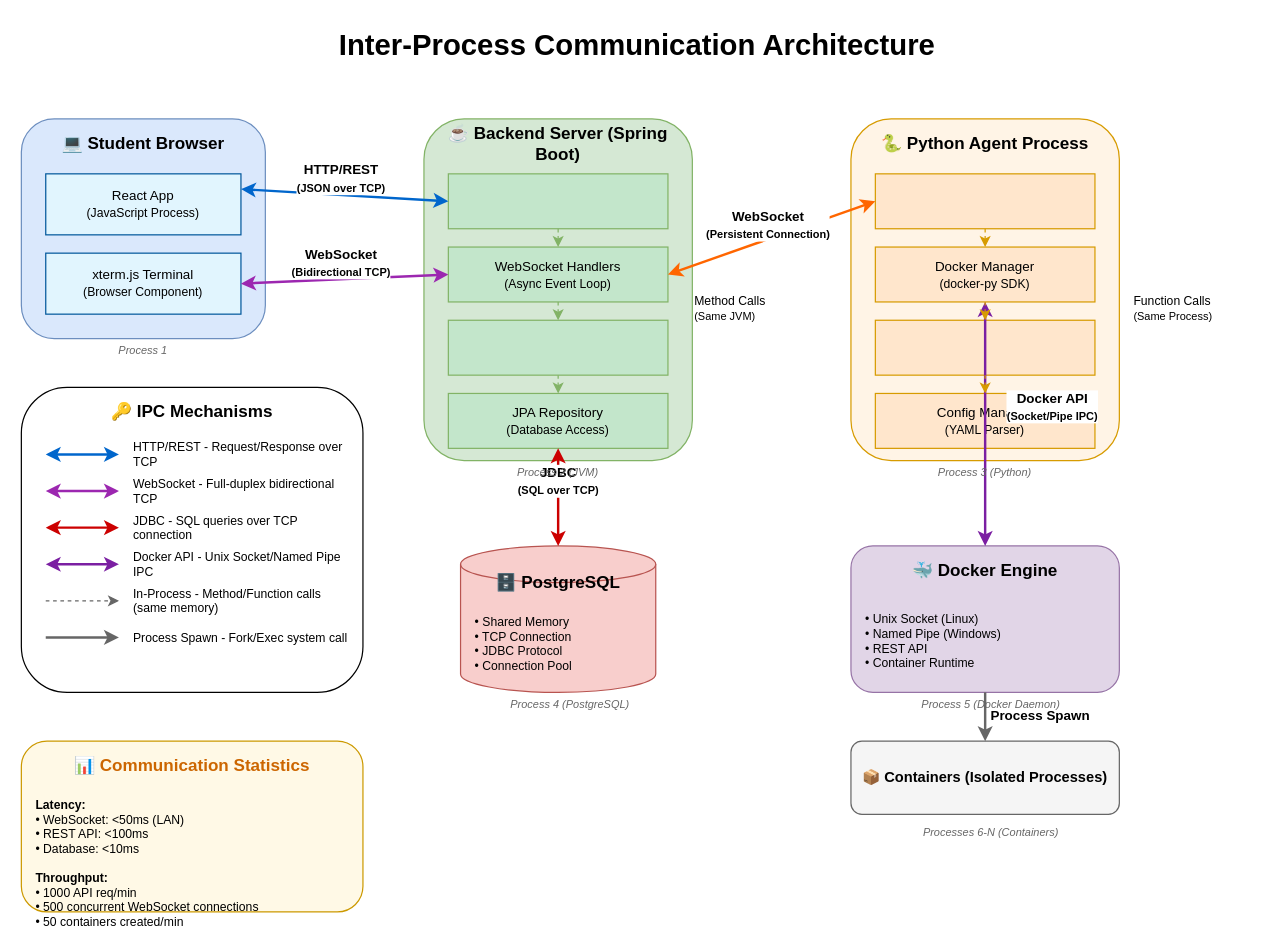
This 1275x950 diagram has some shape labels left out. Each missing label, with the box of its shape:
REST Controllers (HTTP Thread Pool): (447, 173, 668, 229)
Service Layer (Business Logic): (447, 319, 668, 375)
System Monitor (psutil library): (874, 319, 1095, 375)
WebSocket Client (Async Event Loop): (874, 173, 1095, 229)
